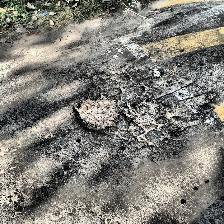pothole: (70, 94, 122, 134), (124, 98, 172, 128)
